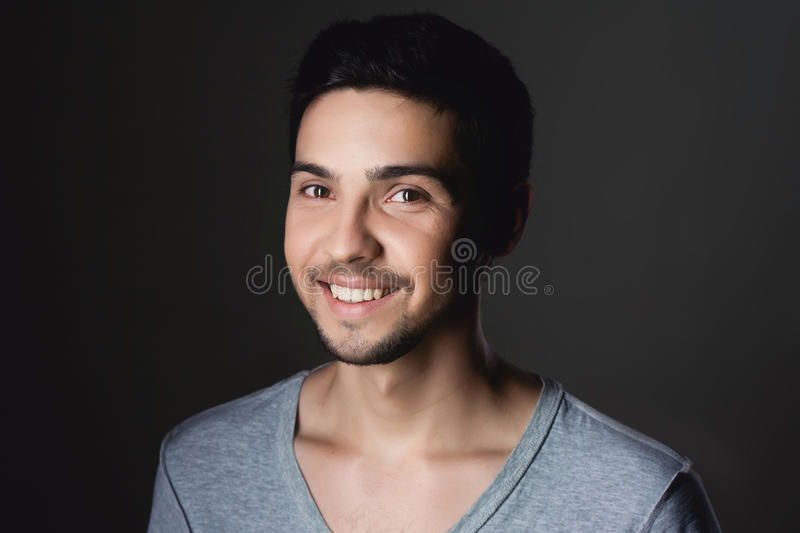NoMask: (289, 155, 440, 357)
